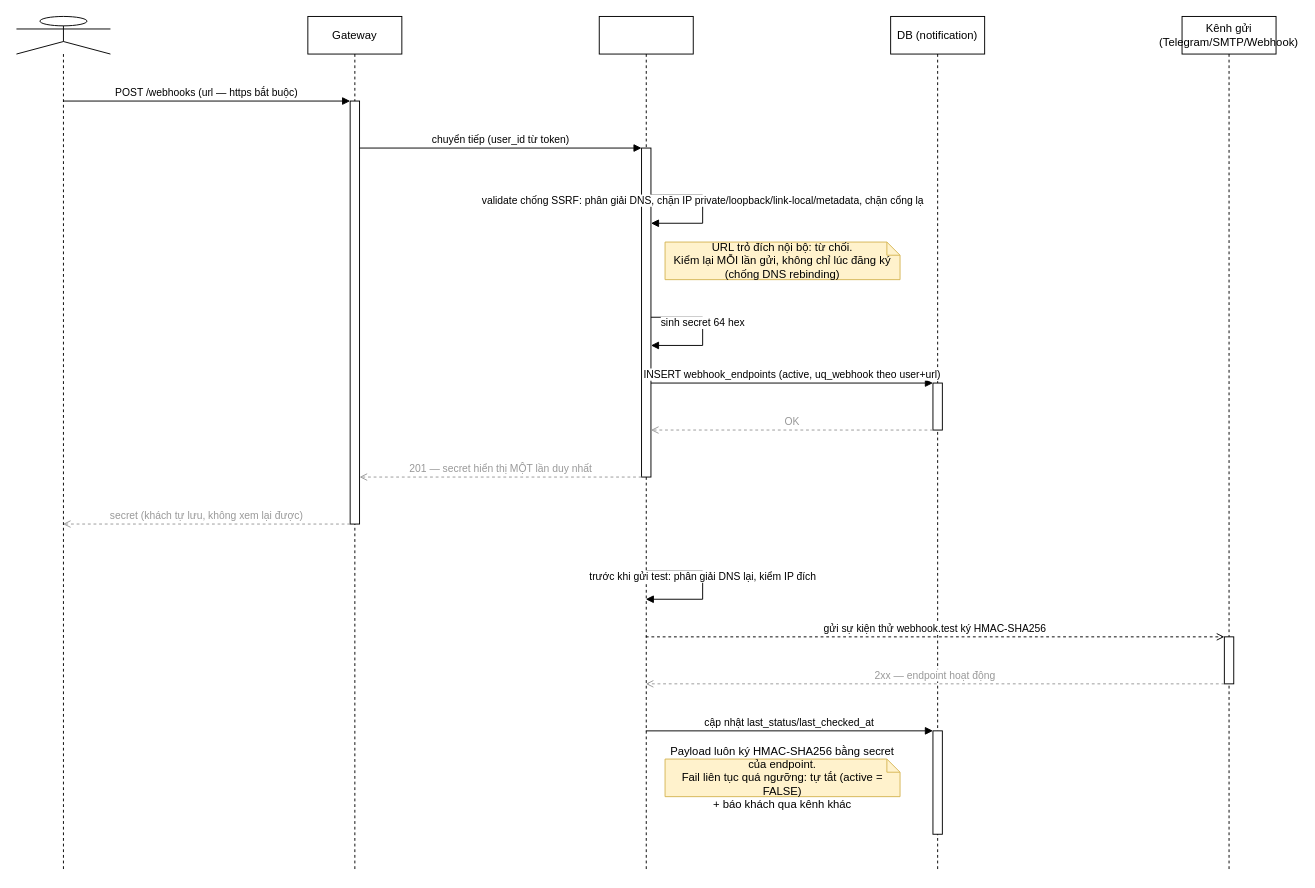
This 1315x888 diagram has some shape labels left out. Each missing label, with the box of its shape:
Khách hàng: (16, 16, 110, 872)
Notification Service: (598, 16, 693, 872)
